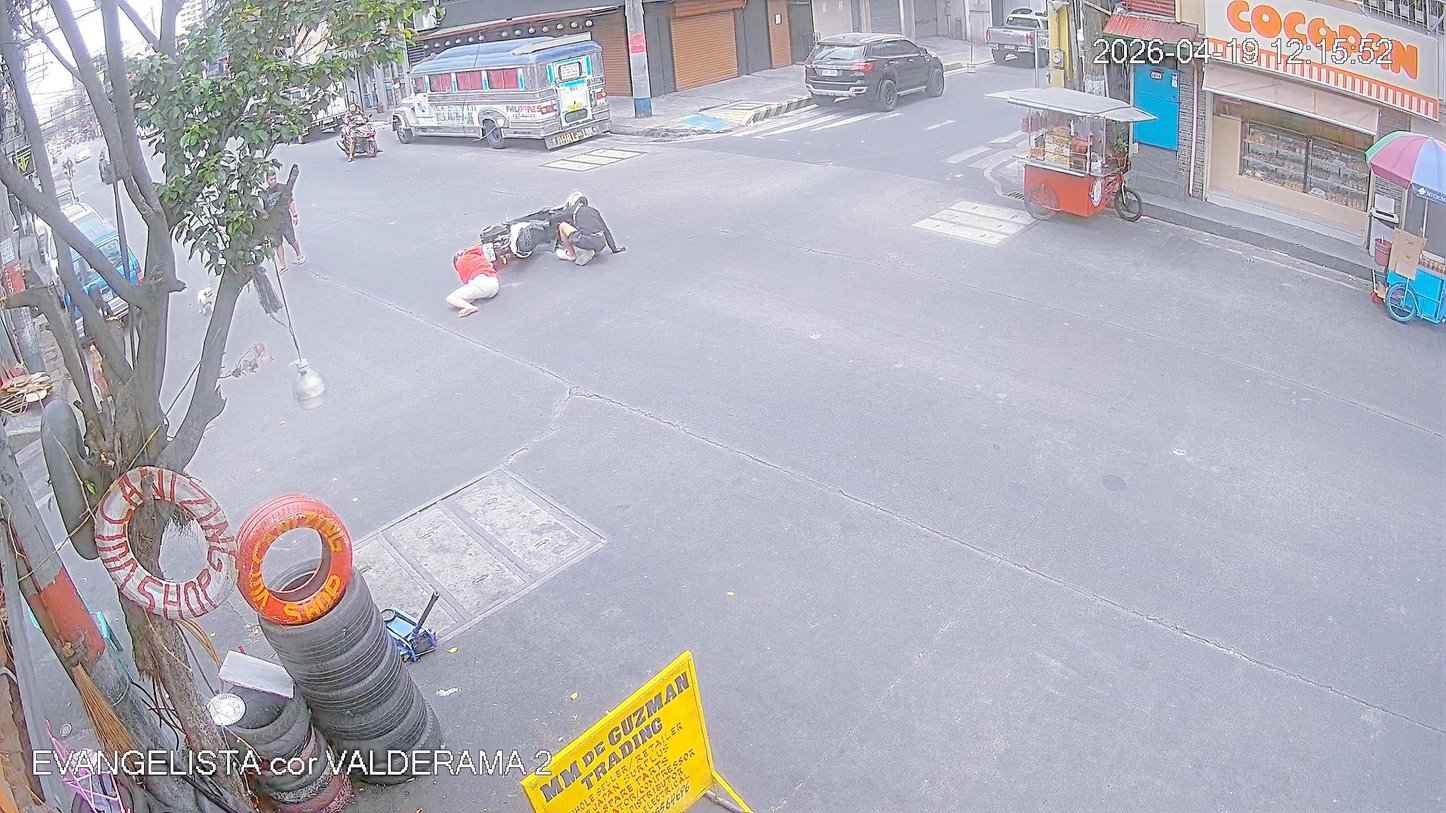Car: (795, 29, 949, 104), (988, 15, 1052, 66)
Motor: (461, 205, 610, 281)
